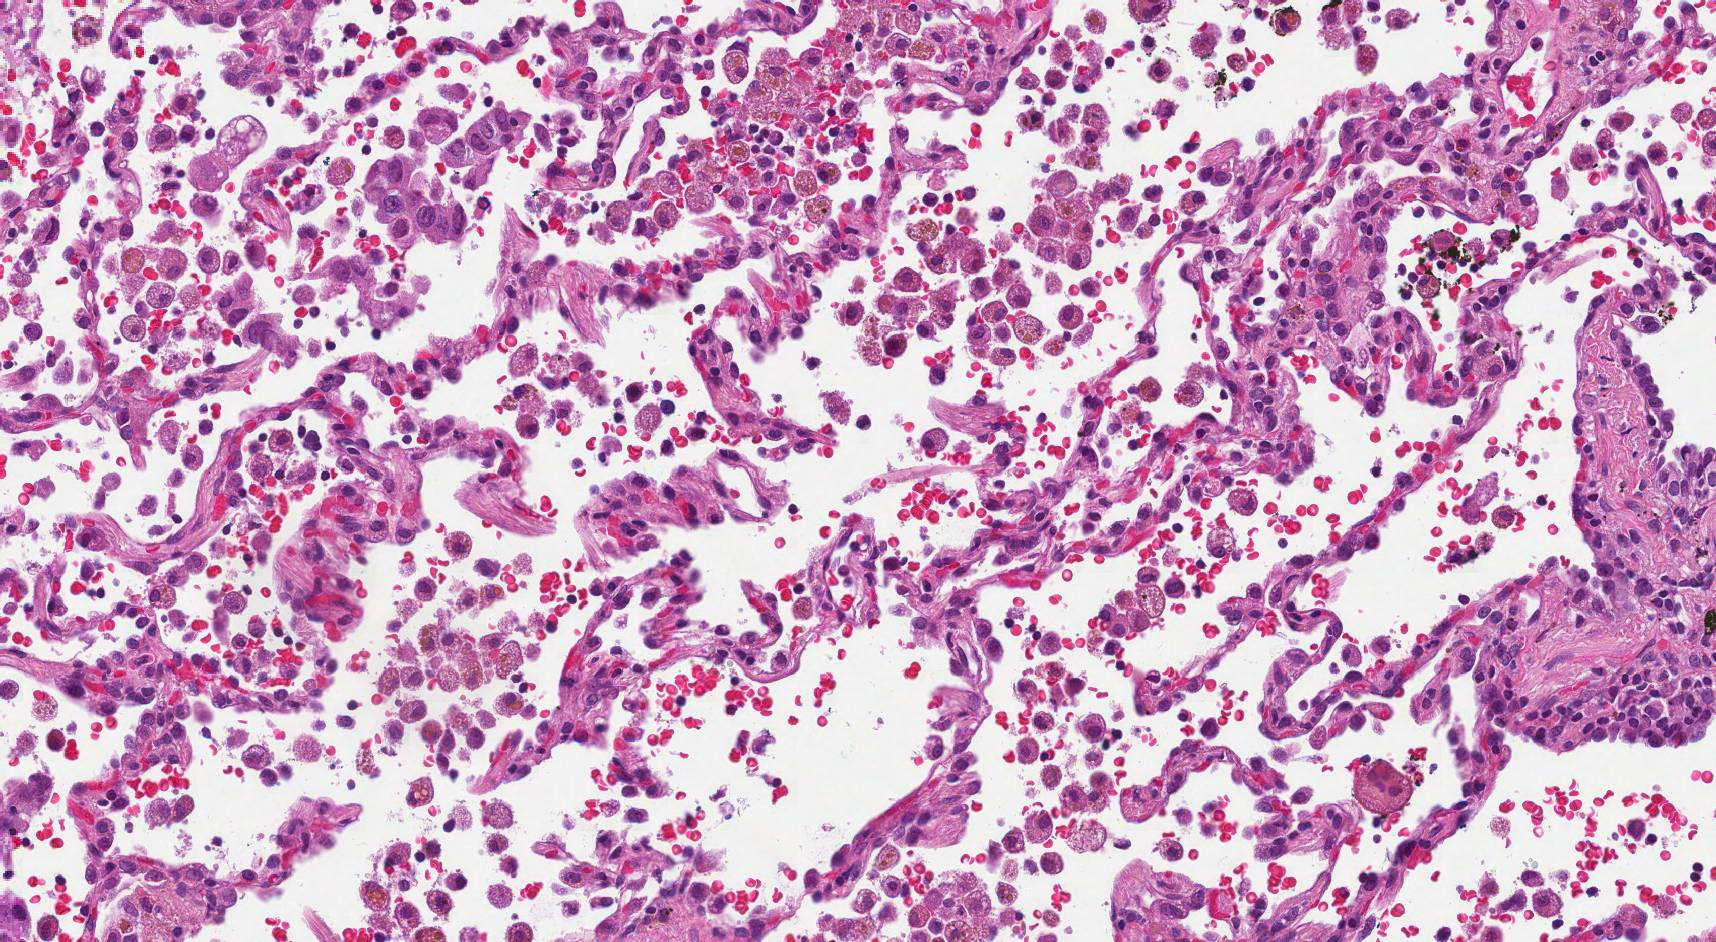stas: (368, 103, 533, 247), (217, 273, 283, 344)
